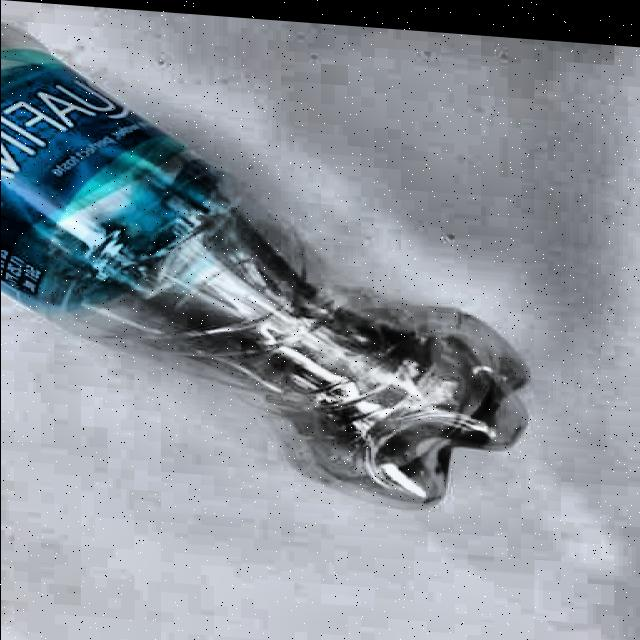plastic: (0, 23, 541, 521)
